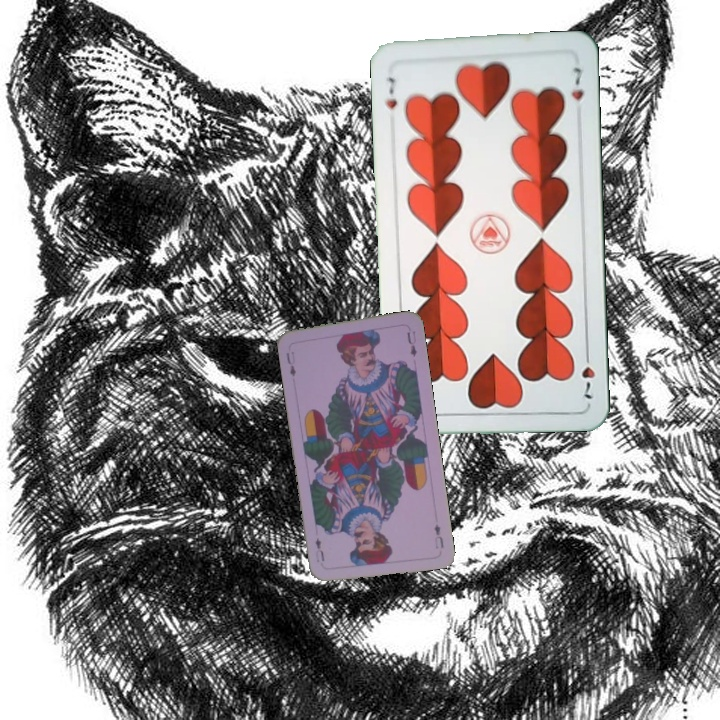EU: (282, 347, 298, 379), (430, 520, 446, 551)
H7: (578, 345, 598, 401), (381, 73, 399, 112)
